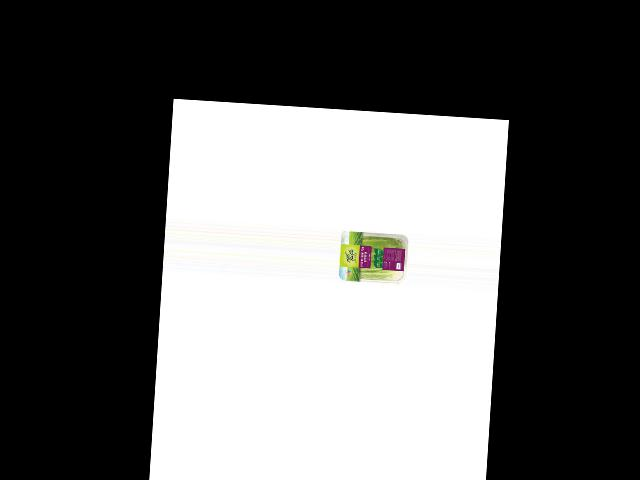lettuce: (343, 230, 409, 285)
